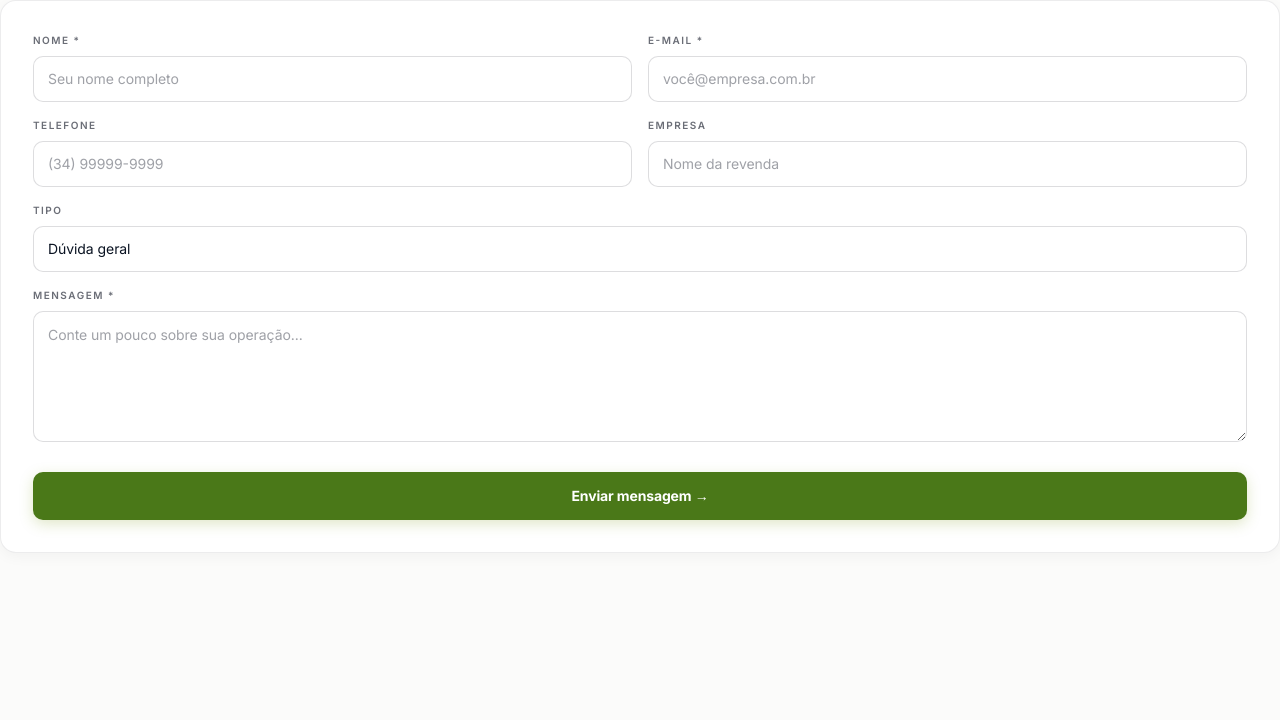
it: <ContactForm> › shows validation errors on empty submit
Click the button "Enviar mensagem →": click(640, 496) [33,472,1247,520]
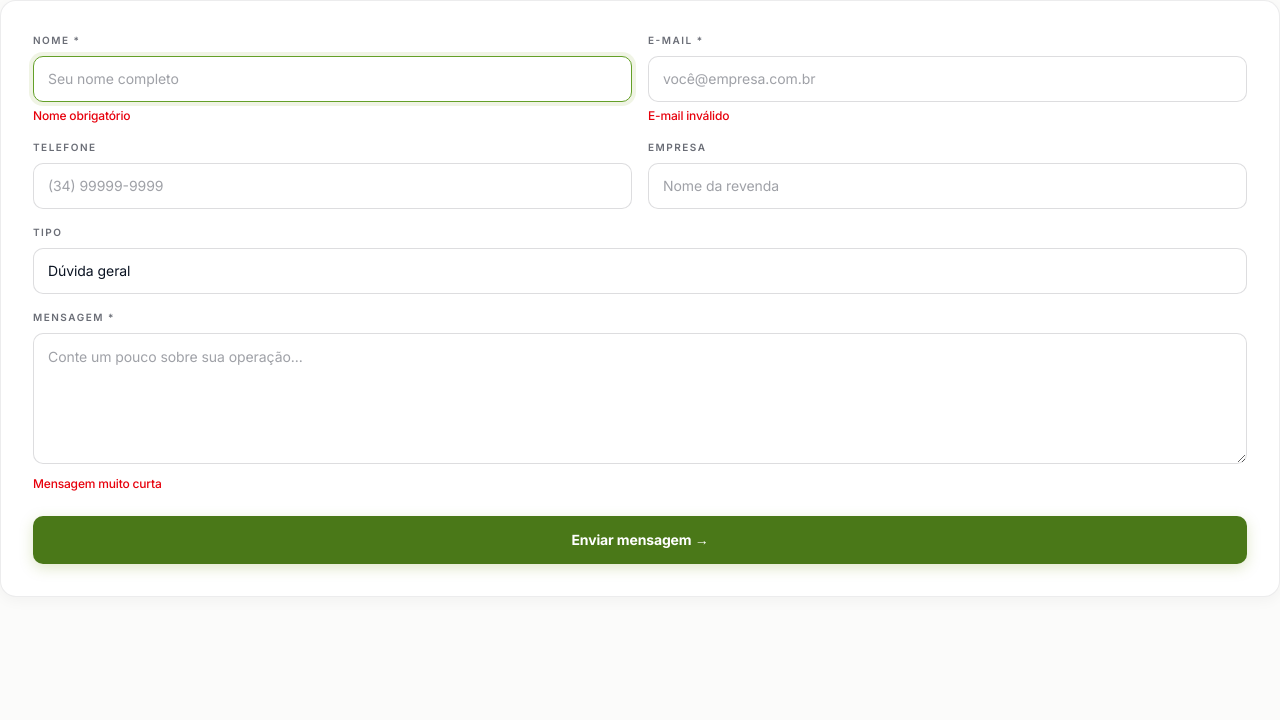
Check: the text "Nome obrigatório" is shown, box [33,108,130,123]
Check: the text "E-mail inválido" is shown, box [648,108,729,123]
Check: the text "Mensagem muito curta" is shown, box [33,476,162,491]
